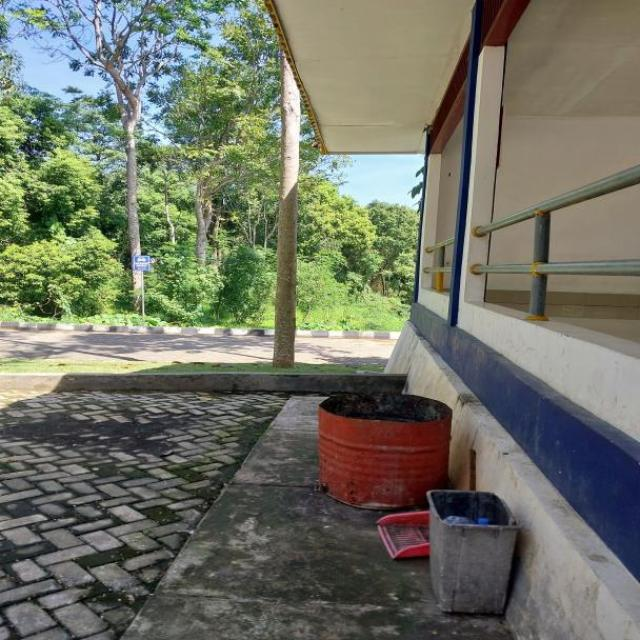dustbin ahead at: (311, 381, 471, 504), (420, 478, 522, 623)
